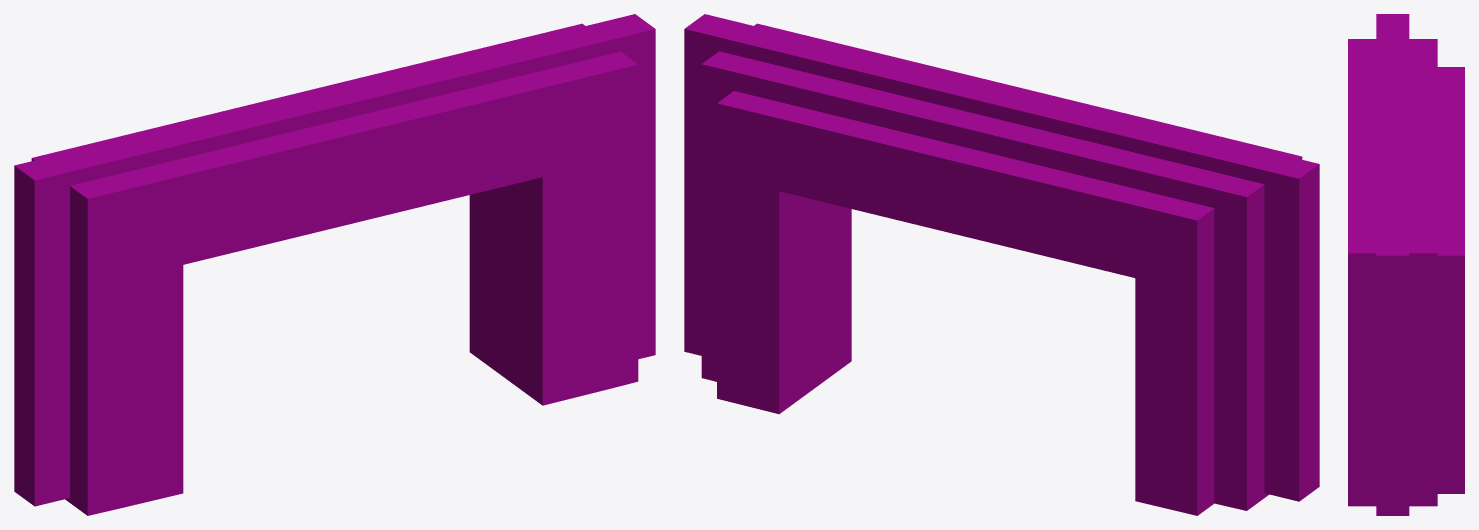
The model's file is Collider_DoorFrame_002.fbx.
The picture shows the model from 3 angles, left to right: view 1: azimuth 30°, elevation 25°; view 2: azimuth 150°, elevation 25°; view 3: azimuth 270°, elevation 25°; orthographic projection. The views are drawn at different scales.
Visible parts, largest first — view 1: Collider_Doorframe_002; view 2: Collider_Doorframe_002; view 3: Collider_Doorframe_002.
Part boxes in pixels (x1,y1,x2,y2): Collider_Doorframe_002: [14, 14, 655, 515]; Collider_Doorframe_002: [684, 14, 1319, 515]; Collider_Doorframe_002: [1348, 14, 1464, 515].
Bounding box in the file's own units: 6 × 3.06 × 1.22.
